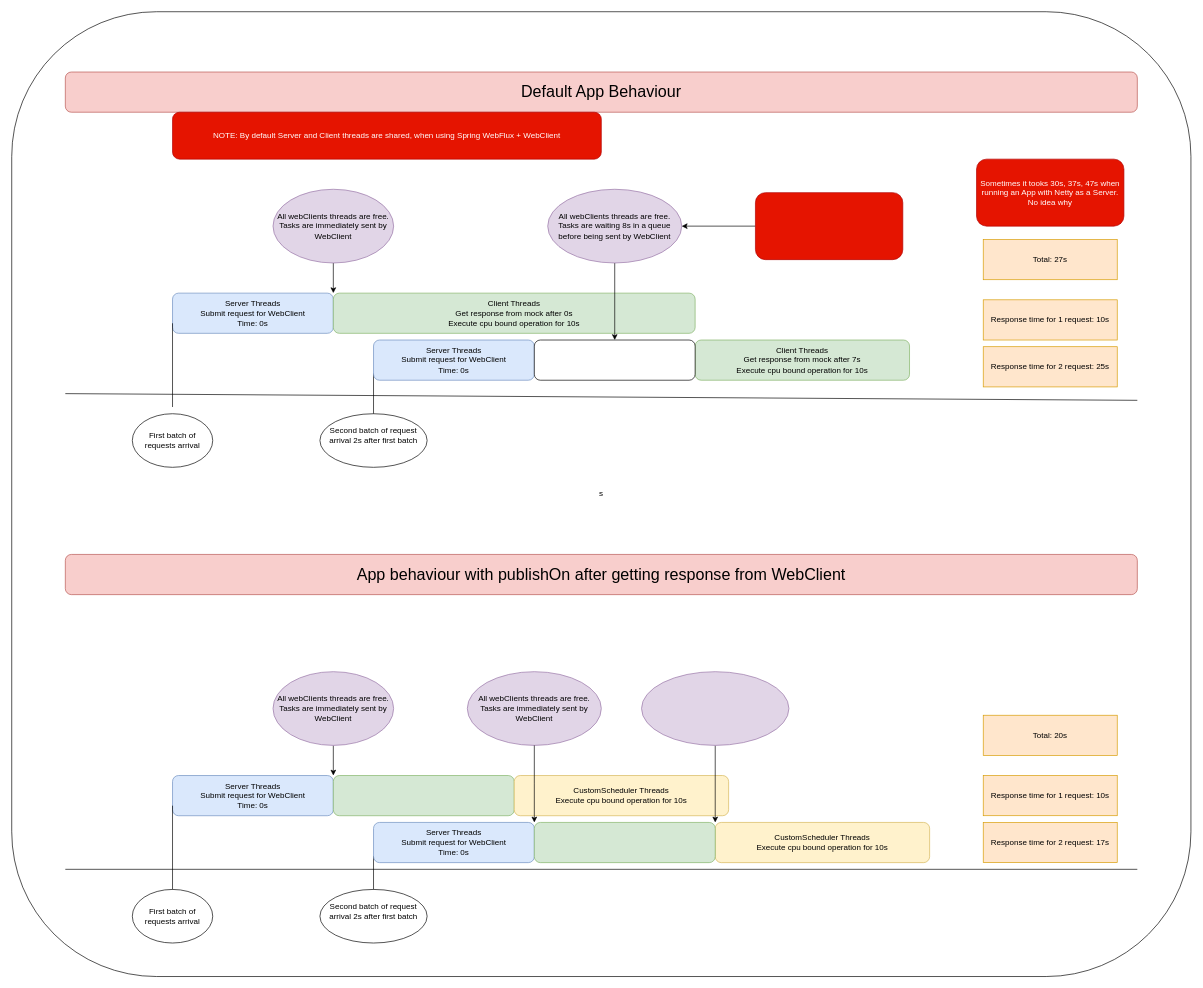
Image size: 1203x988. Some labels were removed from this diagram. Each missing label, with the centre of its shape:
"All CustomScheduler threads are BUSY. Waiting 1s" belongs at (x=715, y=708).
"Client Threads Get response from mock after 0s" belongs at (x=423, y=795).
"Client Threads Get response from mock after 7s" belongs at (x=624, y=842).
"No metric for this by default" belongs at (x=829, y=226).
